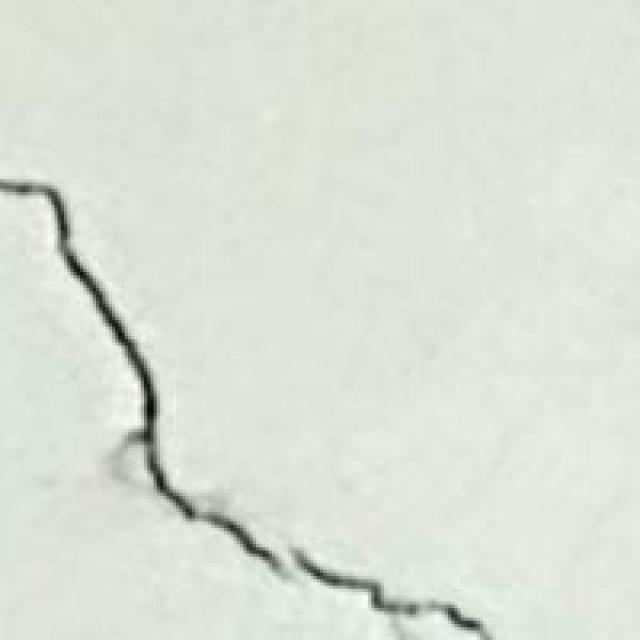crack: (0, 169, 493, 636)
